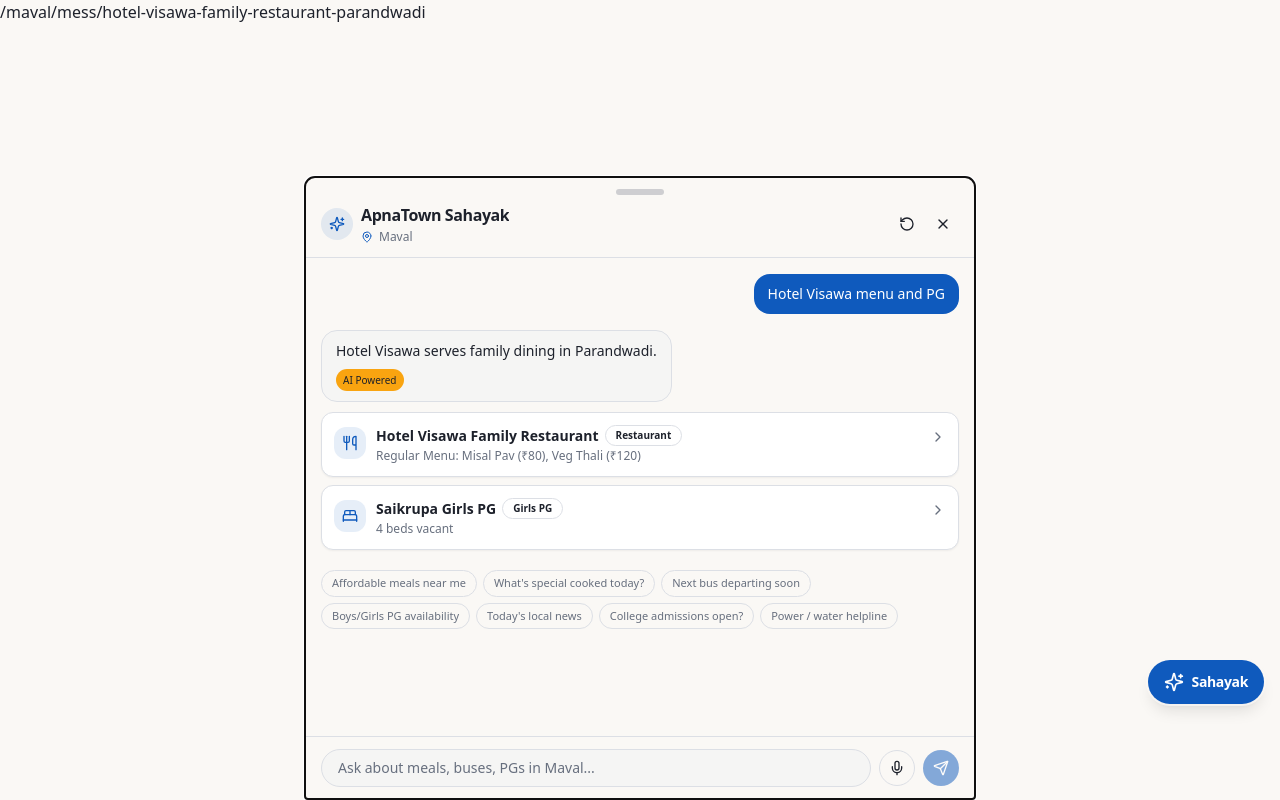
it: TownAssistant › TownAssistantDrawer UI › routes Hotel/Restaurant and PG cards to /mess/:slug and /pg/:slug even if backend returned entityType shop
Earlier steps of the test are not shown.
Click the button "Saikrupa Girls PG Girls PG 4 beds vacant": (350, 516) x1=322 y1=486 x2=958 y2=549
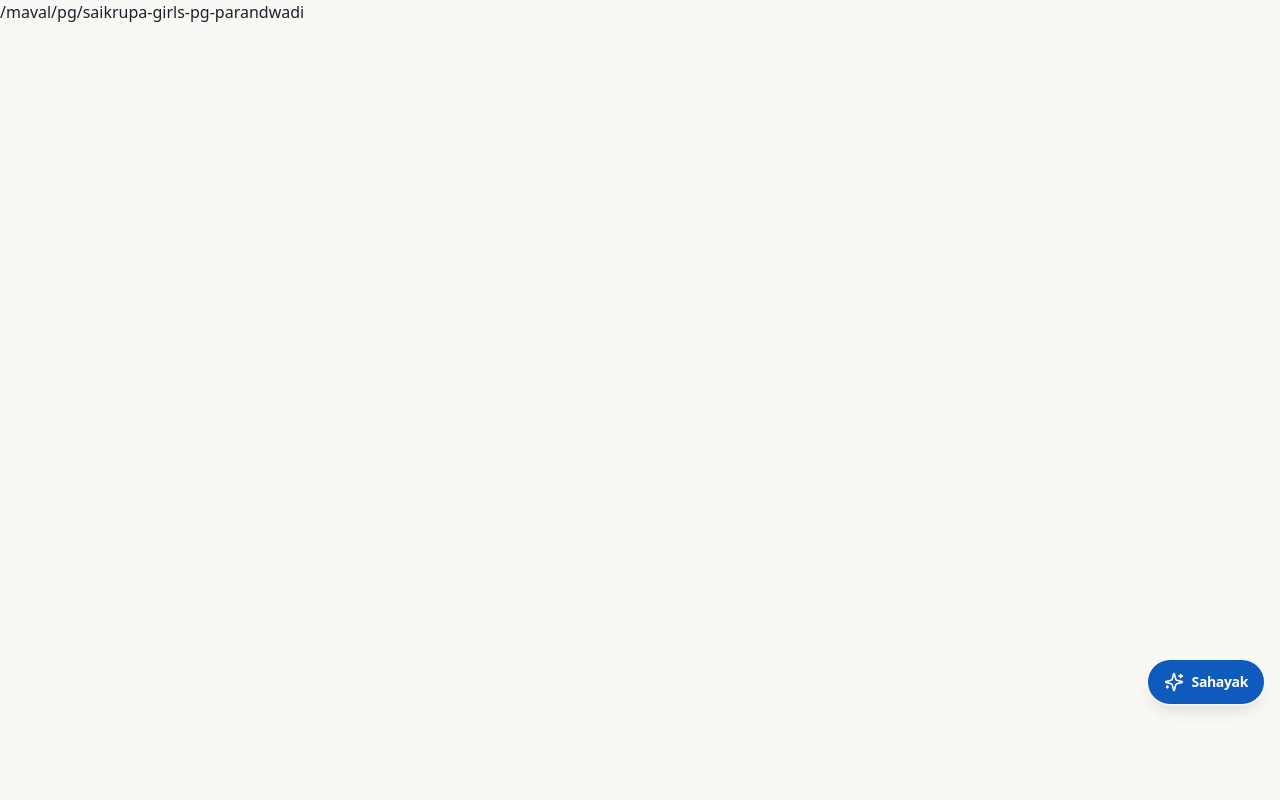
expect the text with test id "current-path" reads "/maval/pg/saikrupa-girls-pg-parandwadi": met, box x1=0 y1=1 x2=304 y2=23
